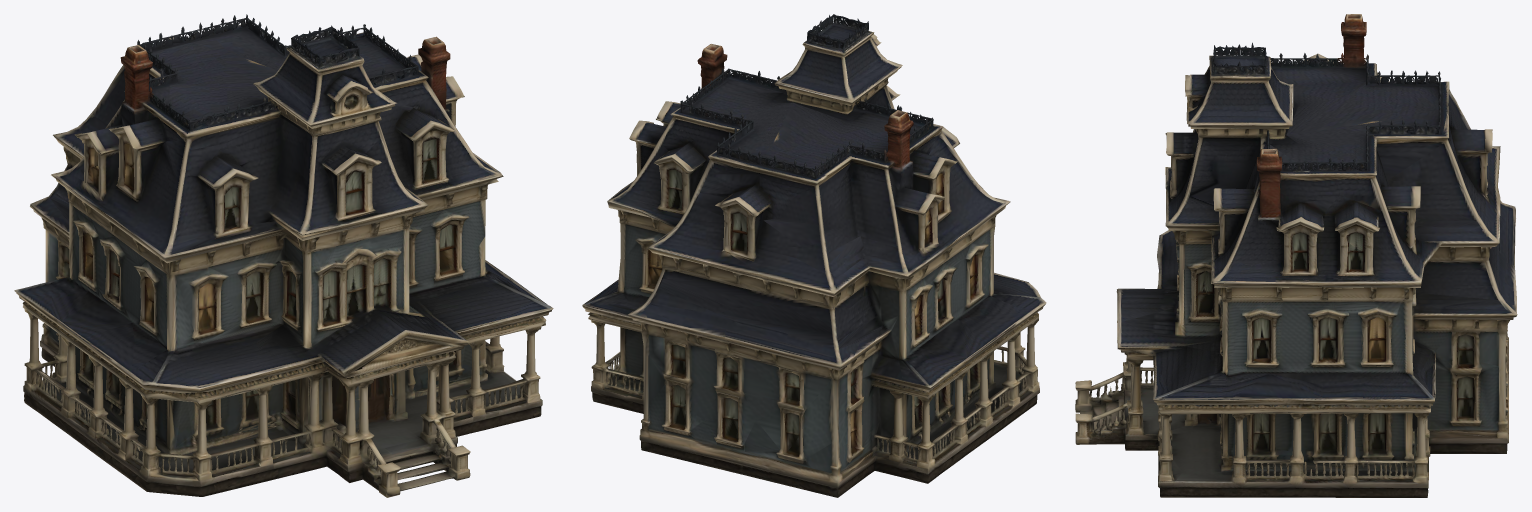
Rendered from HitchcockMansion_LOD1.fbx.
3 renders of one model, left to right at view 1: azimuth 30°, elevation 25°; view 2: azimuth 150°, elevation 25°; view 3: azimuth 270°, elevation 25°, orthographic. The views are drawn at different scales.
Parts seen in each view (by area): view 1: HitchcockMansion_LOD1; view 2: HitchcockMansion_LOD1; view 3: HitchcockMansion_LOD1.
Boxes of the visible parts, box(x1,y1,x2,y2) form: HitchcockMansion_LOD1: box(14, 14, 553, 497); HitchcockMansion_LOD1: box(582, 14, 1046, 497); HitchcockMansion_LOD1: box(1075, 14, 1517, 497).
Size of the model in its own units: 91.7 by 88.03 by 96.02.
1 material, 1 textured.
